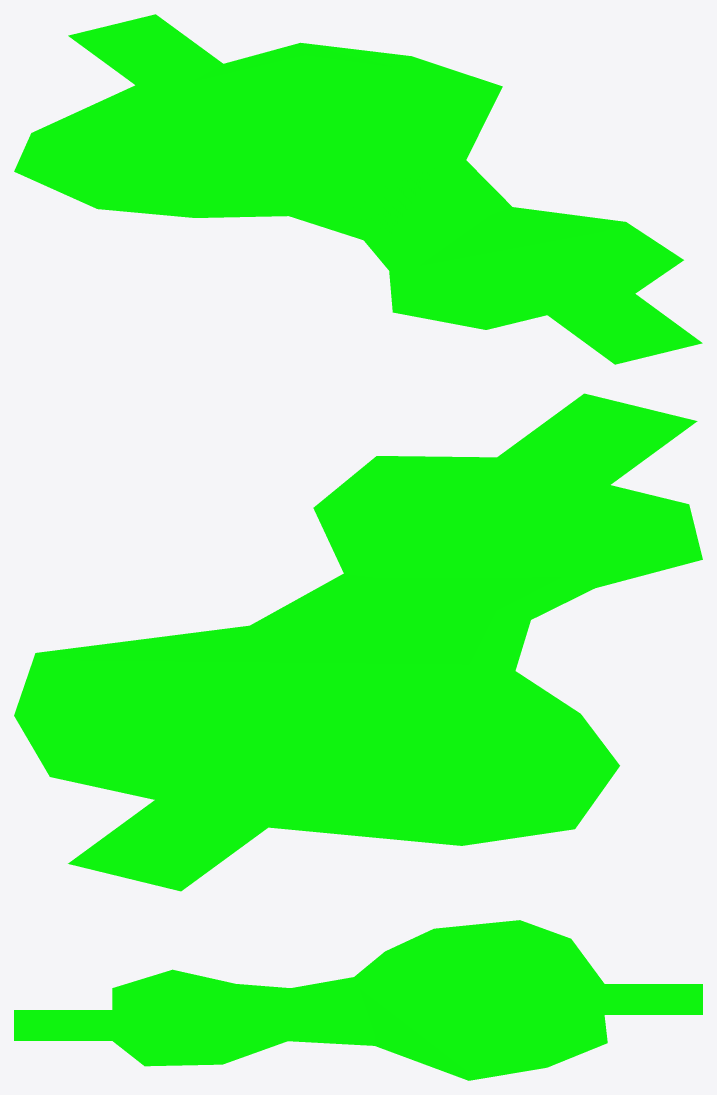
The model's file is s04a_ga1-floor.glb.
The picture shows the model from 3 angles, top to bottom: view 1: azimuth 30°, elevation 25°; view 2: azimuth 150°, elevation 25°; view 3: azimuth 270°, elevation 25°; orthographic projection. The views are drawn at different scales.
Visible parts, largest first — view 1: collision_floor-colonly; view 2: collision_floor-colonly; view 3: collision_floor-colonly.
Part boxes in pixels (x1,y1,x2,y2): collision_floor-colonly: [14, 14, 702, 364]; collision_floor-colonly: [14, 393, 702, 891]; collision_floor-colonly: [14, 920, 702, 1080].
Size of the model in its own units: 30.95 by 0.0938 by 56.
